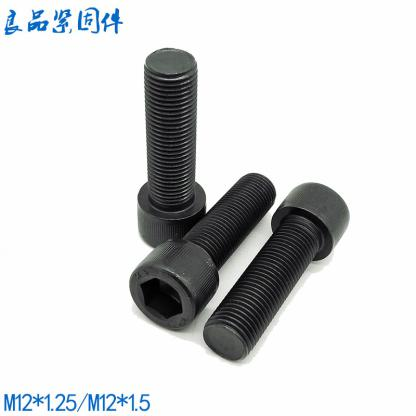FOD: (202, 180, 350, 363), (114, 175, 275, 331), (131, 46, 209, 245)
